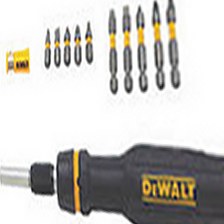Screwdriver: (2, 117, 224, 219)
